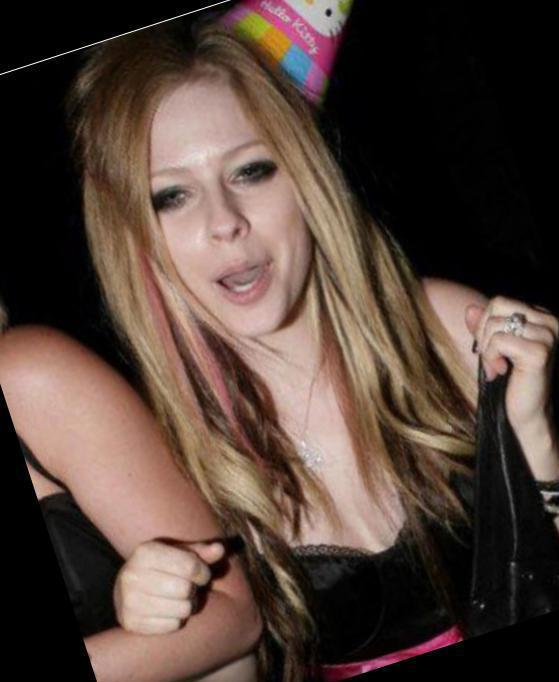Drunk: (125, 87, 308, 328)
